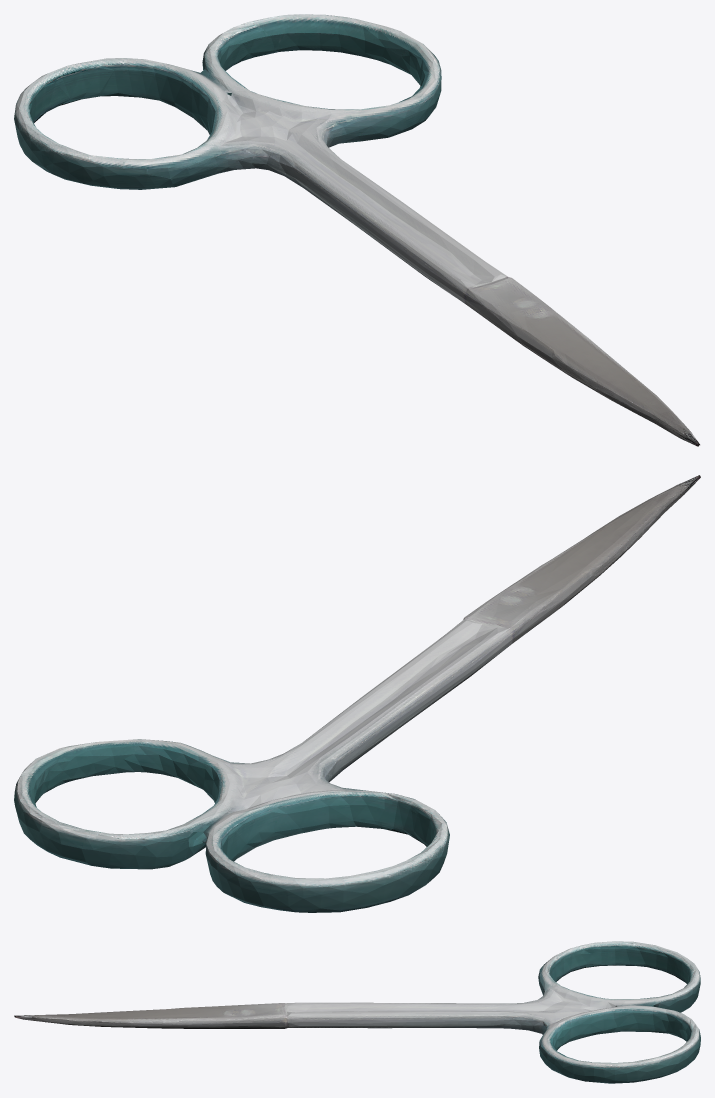
File: Scissors.glb
3 views of the same model, one above another, from view 1: azimuth 30°, elevation 25°; view 2: azimuth 150°, elevation 25°; view 3: azimuth 270°, elevation 25° (orthographic). The views are drawn at different scales.
Visible parts, largest first — view 1: world; view 2: world; view 3: world.
Part boxes in pixels (x1,y1,x2,y2): world: (14,14,699,446); world: (14,475,700,912); world: (14,941,700,1083).
Size of the model in its own units: 0.4283 by 0.0415 by 0.999.
Materials: 1 (1 with a texture image).
